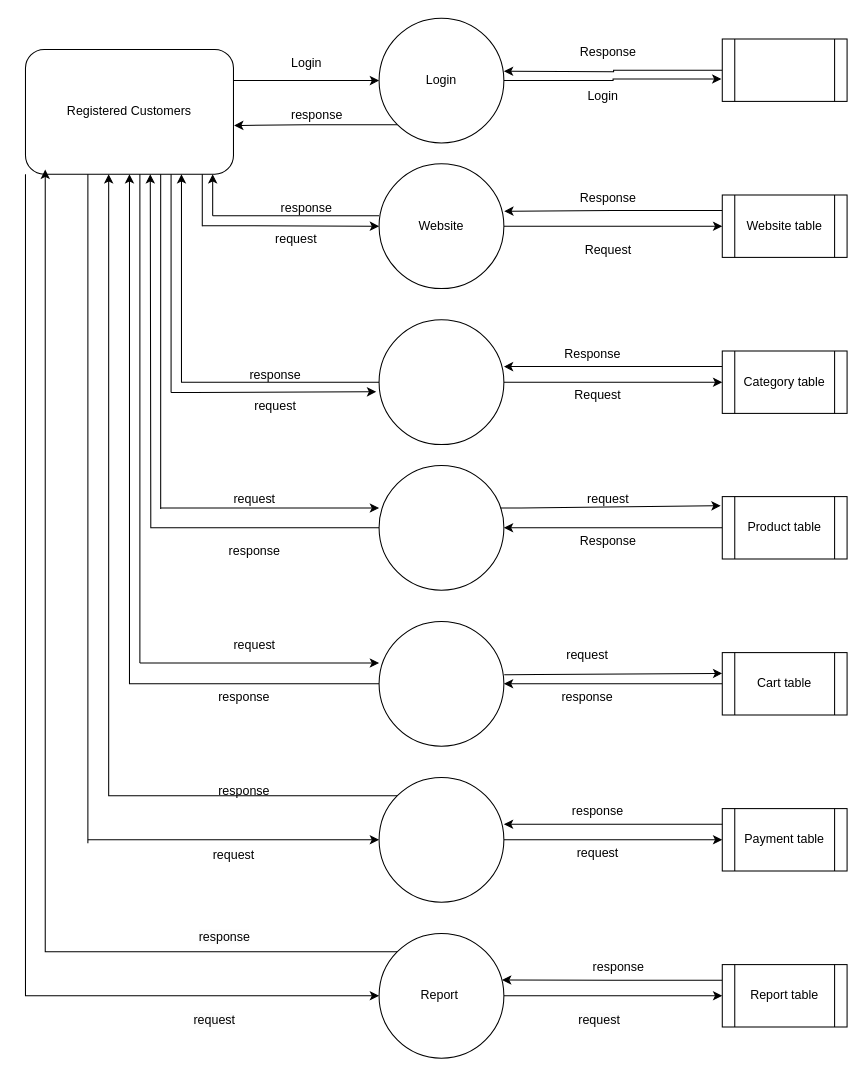
The diagram is 865 pixels wide and 1076 high, and some of its shapes have lost their labels. Each missing label, with the centre of its shape:
"Cart" goes at pixel 441 683.
"Category" goes at pixel 441 382.
"Login Table" goes at pixel 784 69.
"Payment" goes at pixel 441 839.
"Product" goes at pixel 441 527.
